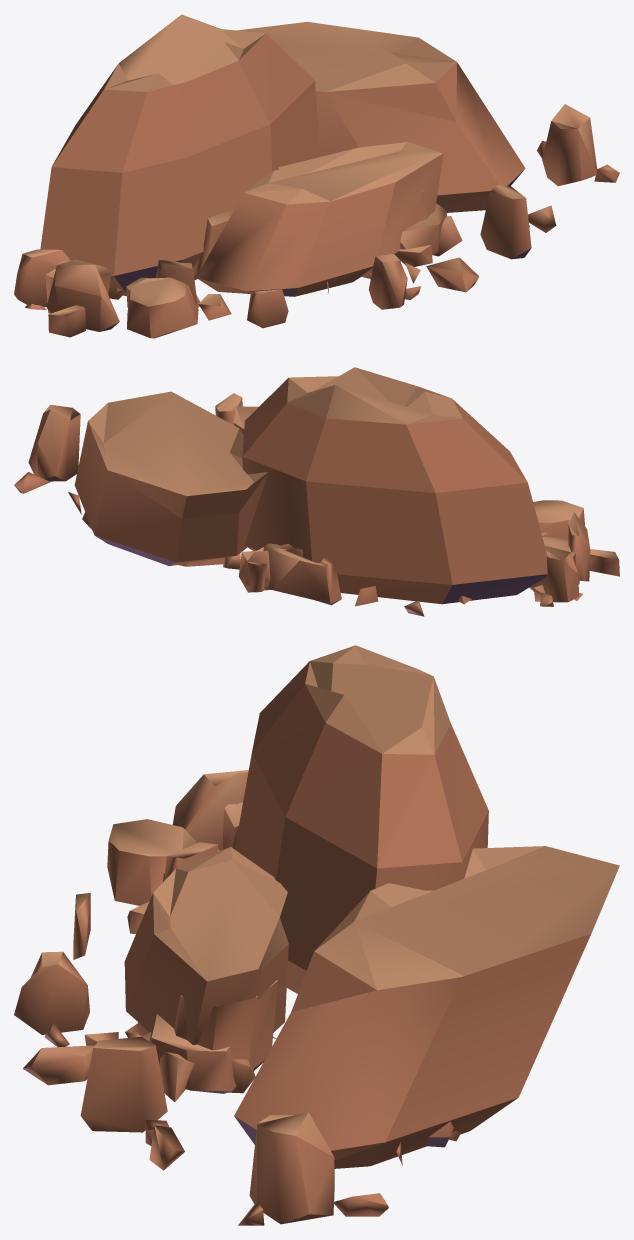
File: sandstone-scree-lod.glb
3 renders of one model, top to bottom at view 1: azimuth 30°, elevation 25°; view 2: azimuth 150°, elevation 25°; view 3: azimuth 270°, elevation 25°, orthographic. The views are drawn at different scales.
Parts seen in each view (by area): view 1: sandstone-scree; view 2: sandstone-scree; view 3: sandstone-scree.
Part boxes in pixels (bbox=[...]): sandstone-scree: bbox=[14, 14, 619, 338]; sandstone-scree: bbox=[14, 367, 619, 616]; sandstone-scree: bbox=[14, 645, 619, 1225].
Size of the model in its own units: 35 by 12 by 22.
